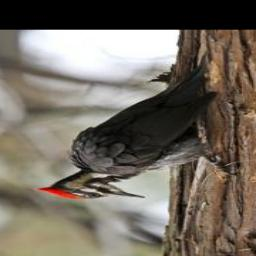Woodpecker: (36, 55, 240, 200)
